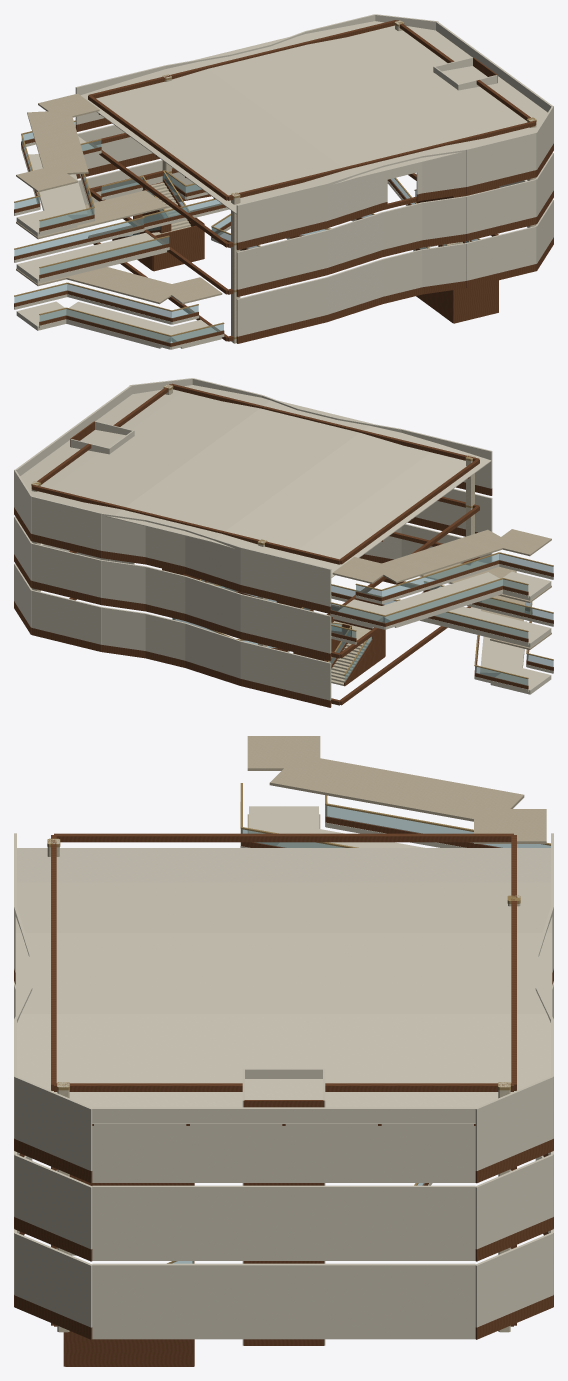
Rendered from AST-COM-003_aft_only.glb.
The picture shows the model from 3 angles, top to bottom: view 1: azimuth 30°, elevation 25°; view 2: azimuth 150°, elevation 25°; view 3: azimuth 270°, elevation 25°; orthographic projection. The views are drawn at different scales.
Parts seen in each view (by area): view 1: HC_TopCeiling_2, HC_TopCeiling_1, HC_TopCeiling_3, HC_TopCeiling_0, HC_ProfileWall_D16_1_0, HC_ProfileWall_D17_1_0, HC_ProfileWall_D15_1_0, HC_TopCeiling_4, HC_ArrivalCanopy_D17_1, HC_ProfileWall_D15_1_4, HC_ProfileWall_D16_1_4, HC_ProfileWall_D17_1_4 (+56 smaller); view 2: HC_TopCeiling_2, HC_TopCeiling_1, HC_TopCeiling_3, HC_TopCeiling_0, HC_ProfileWall_D15_-1_0, HC_ProfileWall_D16_-1_0, HC_ProfileWall_D17_-1_0, HC_TopCeiling_4, HC_ArrivalCanopy_D17_1, HC_ProfileWall_D17_-1_4, HC_ProfileWall_D15_-1_4, HC_ProfileWall_D16_-1_4 (+53 smaller); view 3: HC_TopCeiling_2, HC_TopCeiling_3, HC_RearWall_D15, HC_RearWall_D16, HC_RearWall_D17, HC_TopCeiling_1, HC_TopCeiling_0, HC_ArrivalCanopy_D17_1, HC_TopCeiling_4, HC_ProfileWall_D16_-1_5, HC_ProfileWall_D16_1_5, HC_ProfileWall_D15_-1_5 (+24 smaller).
Boxes of the visible parts, box(x1,y1,x2,y2) form: HC_TopCeiling_2: box(196, 36, 456, 178); HC_TopCeiling_1: box(126, 62, 356, 193); HC_TopCeiling_3: box(297, 21, 528, 153); HC_TopCeiling_0: box(80, 81, 280, 214); HC_ProfileWall_D16_1_0: box(236, 230, 327, 289); HC_ProfileWall_D17_1_0: box(236, 183, 327, 242); HC_ProfileWall_D15_1_0: box(236, 277, 327, 336); HC_TopCeiling_4: box(376, 21, 547, 133); HC_ArrivalCanopy_D17_1: box(27, 111, 88, 174); HC_ProfileWall_D15_1_4: box(466, 226, 536, 280); HC_ProfileWall_D16_1_4: box(466, 179, 536, 233); HC_ProfileWall_D17_1_4: box(466, 132, 536, 186); HC_TopCeiling_2: box(111, 400, 371, 541); HC_TopCeiling_1: box(211, 423, 440, 557); HC_TopCeiling_3: box(39, 385, 270, 517); HC_TopCeiling_0: box(287, 444, 491, 578); HC_ProfileWall_D15_-1_0: box(240, 641, 331, 700); HC_ProfileWall_D16_-1_0: box(240, 594, 331, 653); HC_ProfileWall_D17_-1_0: box(240, 547, 331, 606); HC_TopCeiling_4: box(20, 385, 191, 497); HC_ArrivalCanopy_D17_1: box(371, 529, 511, 583); HC_ProfileWall_D17_-1_4: box(31, 496, 101, 550); HC_ProfileWall_D15_-1_4: box(31, 590, 101, 644); HC_ProfileWall_D16_-1_4: box(31, 543, 101, 597); HC_TopCeiling_2: box(15, 933, 552, 1013); HC_TopCeiling_3: box(15, 1014, 552, 1086); HC_RearWall_D15: box(92, 1263, 475, 1339); HC_RearWall_D16: box(92, 1185, 475, 1260); HC_RearWall_D17: box(92, 1107, 475, 1182); HC_TopCeiling_1: box(15, 882, 552, 932); HC_TopCeiling_0: box(17, 848, 550, 882); HC_ArrivalCanopy_D17_1: box(269, 755, 524, 822); HC_TopCeiling_4: box(42, 1086, 525, 1124); HC_ProfileWall_D16_-1_5: box(475, 1154, 553, 1249); HC_ProfileWall_D16_1_5: box(14, 1154, 92, 1249); HC_ProfileWall_D15_-1_5: box(475, 1233, 553, 1327).
Size of the model in its own units: 47.06 by 17.76 by 28.16.
7 materials, 5 textured.
